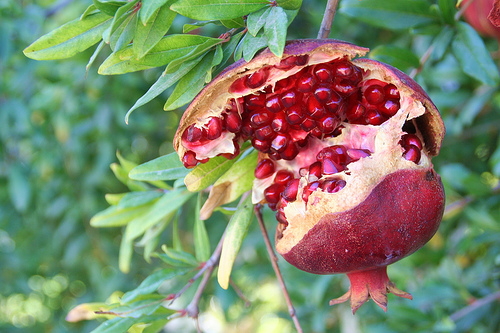pomogranate: (172, 39, 448, 316)
